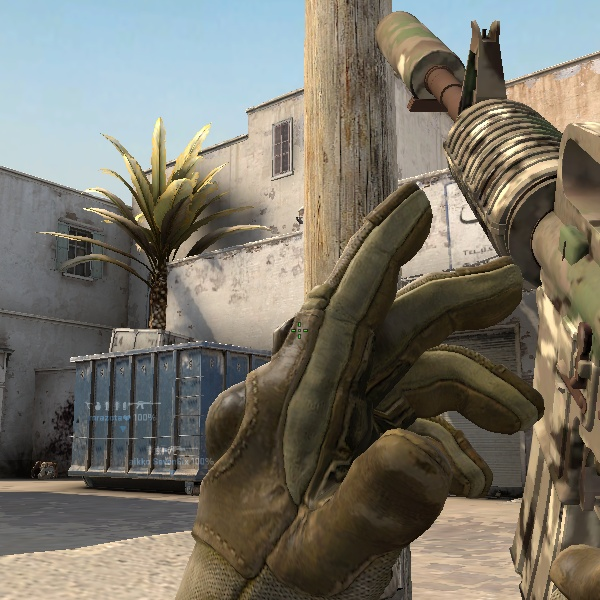t_body: (232, 9, 596, 600)
